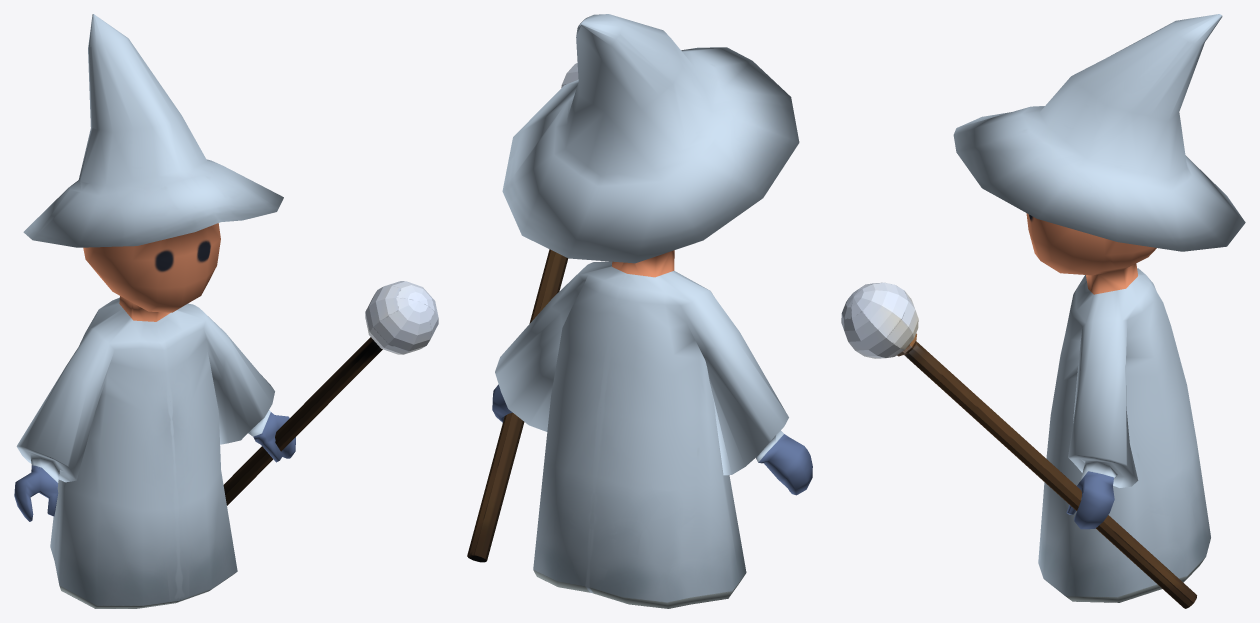
Rendered from mago3.fbx.
3 renders of one model, left to right at view 1: azimuth 30°, elevation 25°; view 2: azimuth 150°, elevation 25°; view 3: azimuth 270°, elevation 25°, orthographic. The views are drawn at different scales.
Visible parts, largest first — view 1: Cube, Cylinder; view 2: Cube, Cylinder; view 3: Cube, Cylinder.
Boxes of the visible parts, <box> form: Cube: <box>14,14,295,608</box>; Cylinder: <box>223,281,438,505</box>; Cube: <box>492,14,812,608</box>; Cylinder: <box>467,63,578,562</box>; Cube: <box>953,14,1245,602</box>; Cylinder: <box>841,282,1196,608</box>.
Size of the model in its own units: 417 by 669 by 442.
